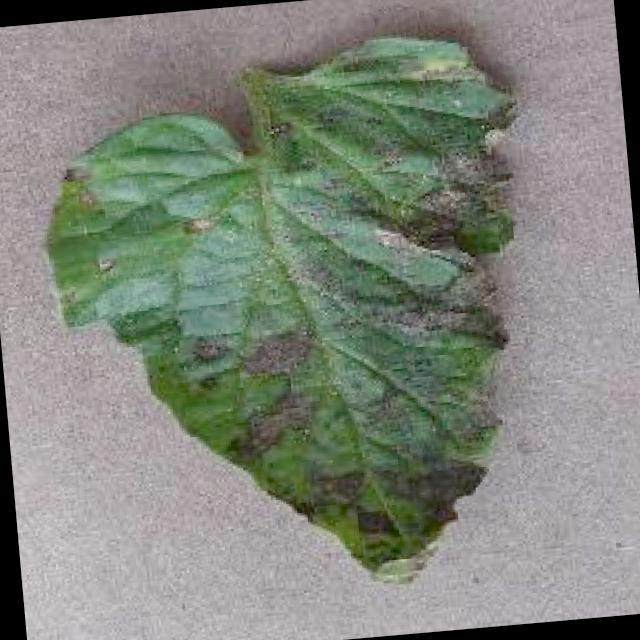Tomato Early blight leaf: (24, 19, 558, 613)
